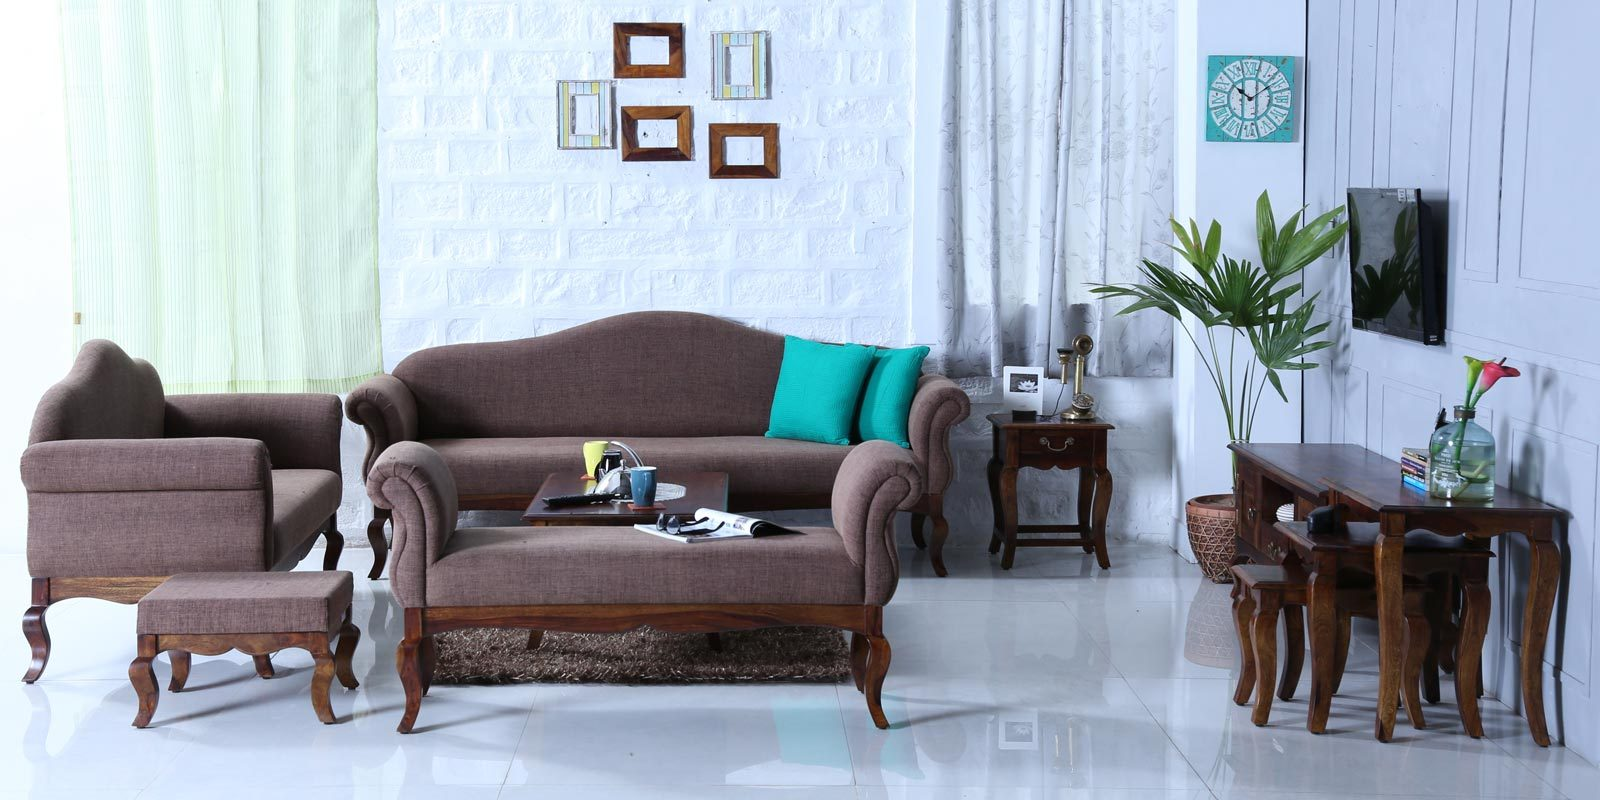Anne Three Seater Sofa in Provincial Teak Finish by Amberville: (342, 295, 961, 515), (19, 317, 347, 570)
